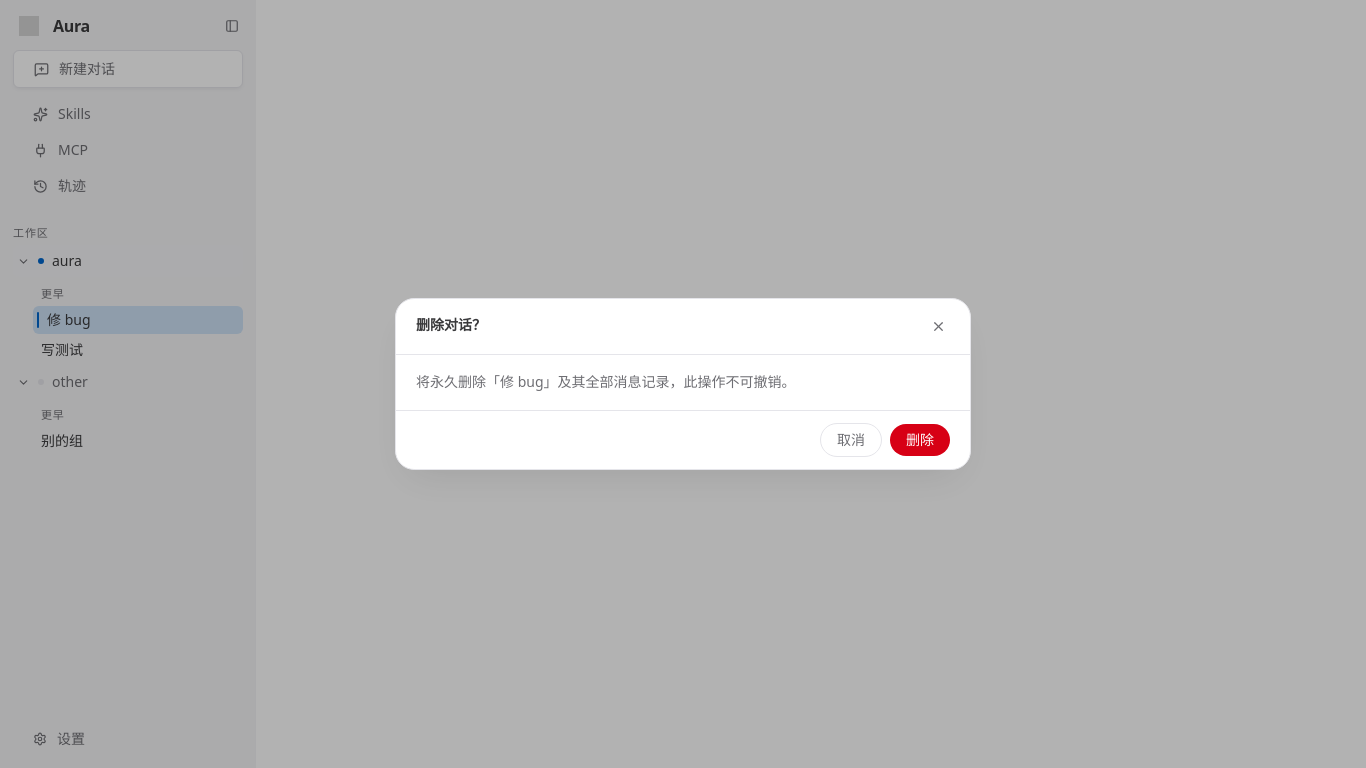
Test: Sidebar › 删除会话二次确认 › 确认后才删除对应会话
The image size is (1366, 768).
Earlier steps of the test are not shown.
Click the button "删除": coordinates (920, 440) [890,424,950,456]
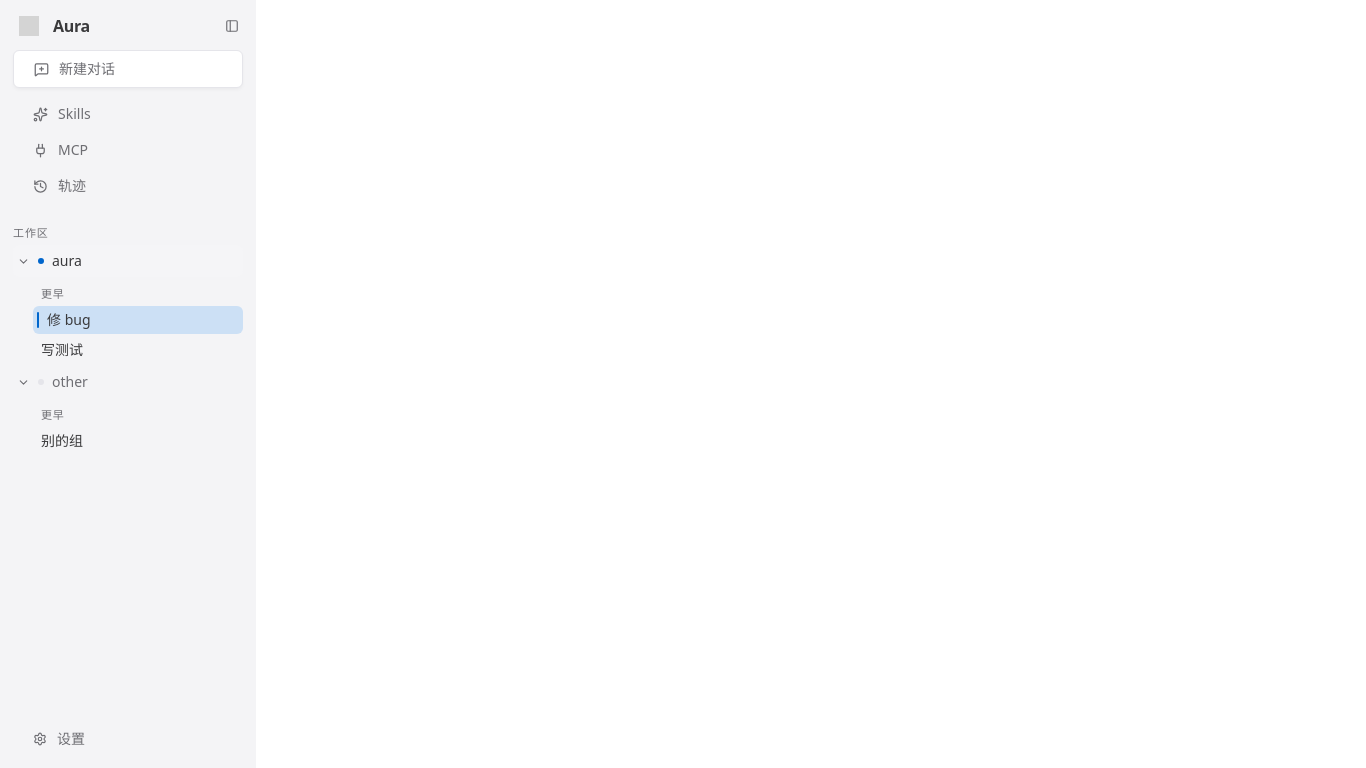
Expected: the dialog is gone
